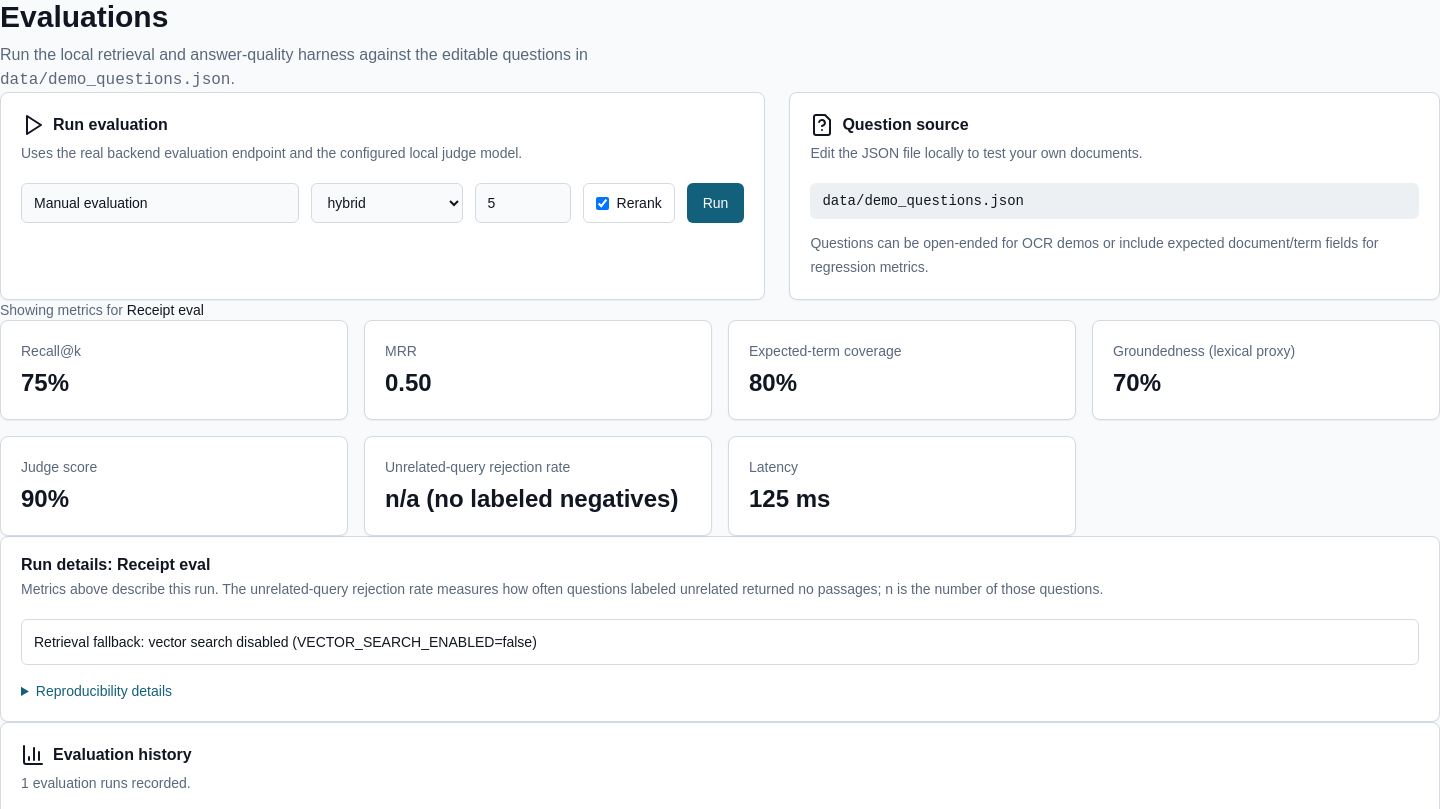
release status visibility › shows saved effective settings including floor 0.37
The image size is (1440, 809).
Expected: the heading "Run details: Receipt eval" is shown, [21,556,210,573]
Click the heading "Reproducibility details": (104, 691) [36,683,172,699]
(page scrolled)
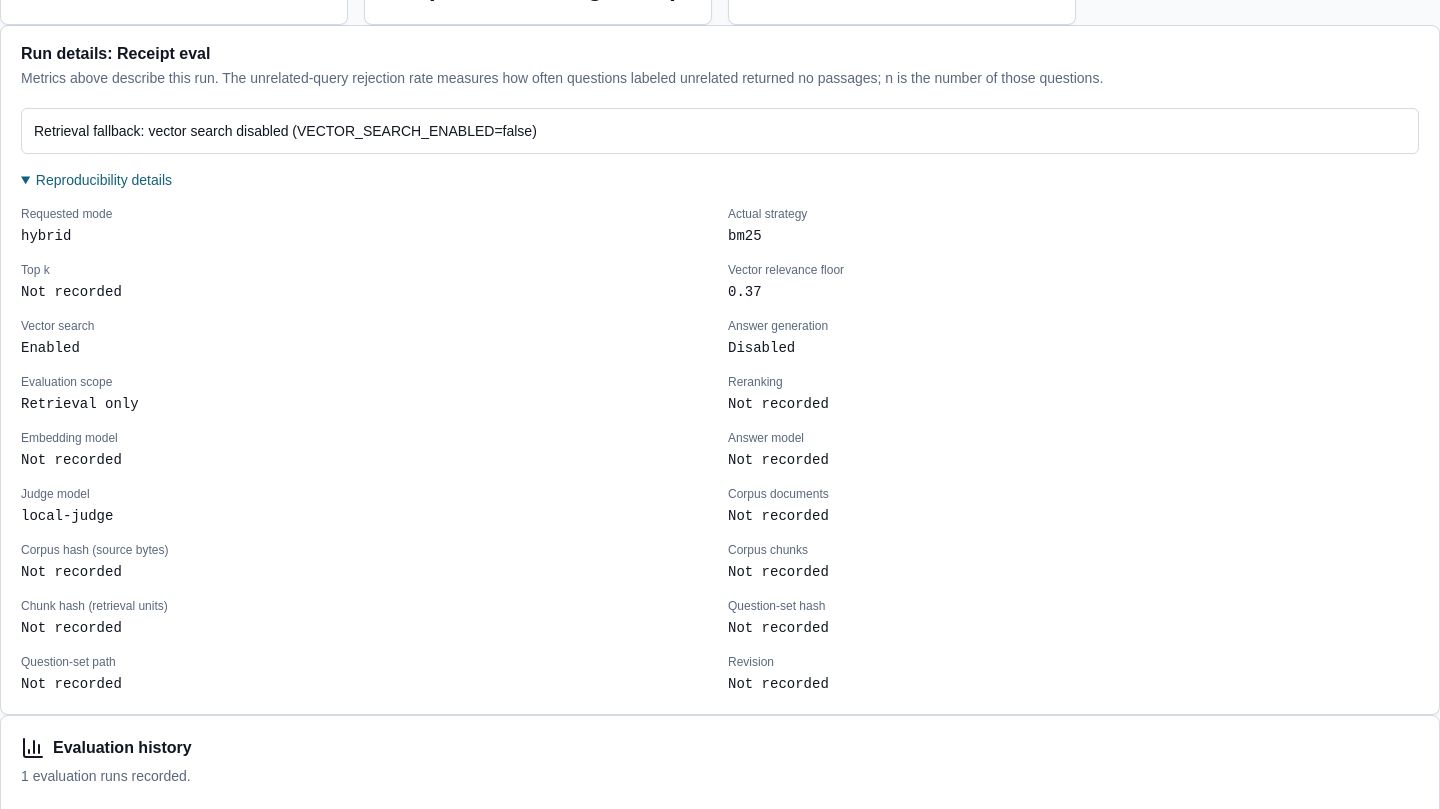
Now the text "0.37" is shown, box [728,284,762,300]
Now the text "Enabled" is shown, box [21,340,80,356]
Now the text "Disabled" is shown, box [728,340,795,356]
